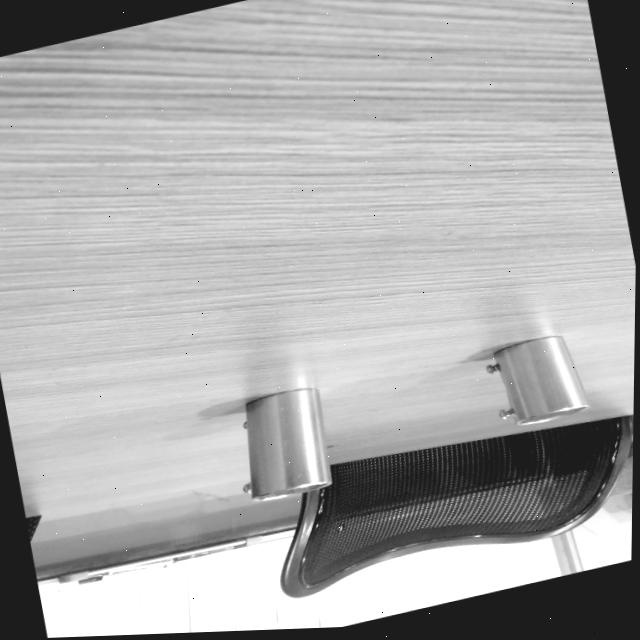Co_Lon: (230, 388, 332, 503)
Co_Nho: (475, 328, 589, 439)
